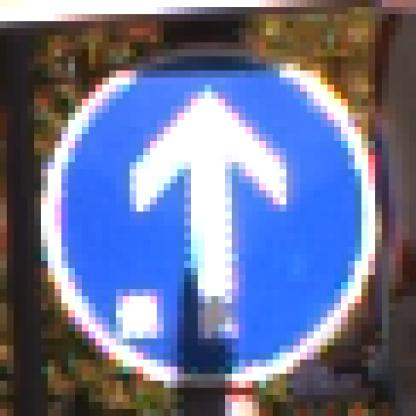AheadOnly: (42, 36, 383, 382)
